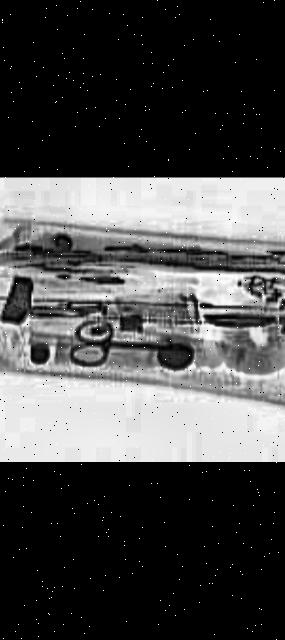Scissors: (62, 322, 191, 375)
